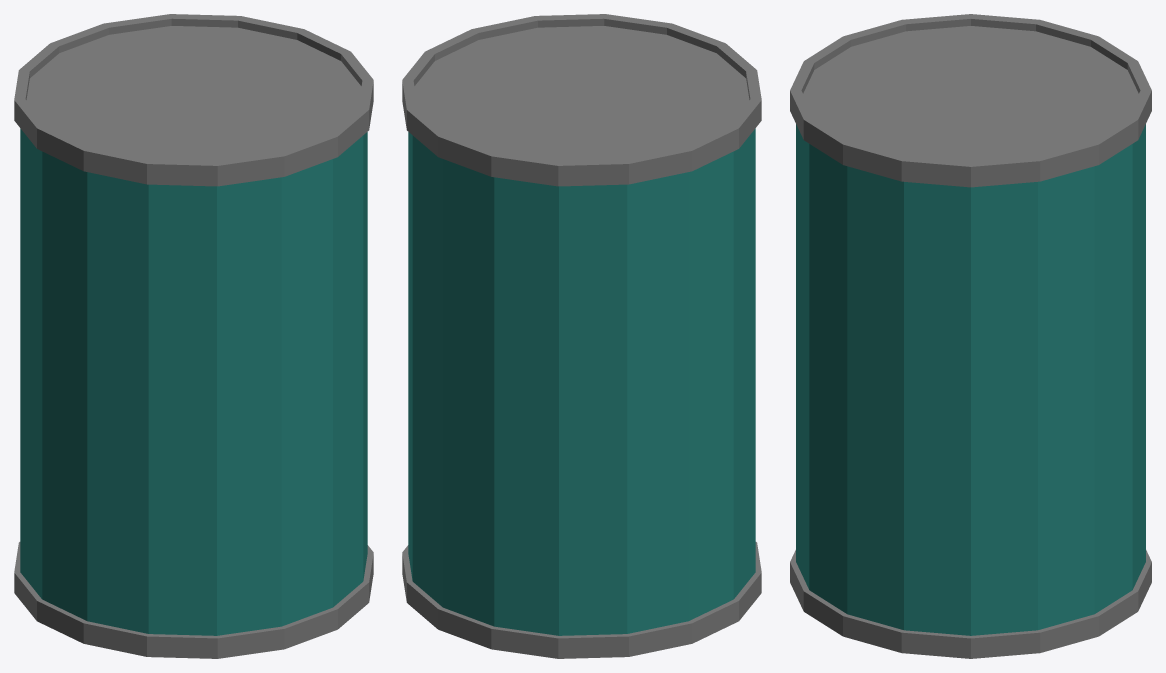
File: Can_01.fbx
3 views of the same model, side by side, from view 1: azimuth 30°, elevation 25°; view 2: azimuth 150°, elevation 25°; view 3: azimuth 270°, elevation 25° (orthographic).
Parts seen in each view (by area): view 1: Cylinder001; view 2: Cylinder001; view 3: Cylinder001.
Boxes of the visible parts, x1,y1,x2,y2 form: Cylinder001: [14, 14, 373, 658]; Cylinder001: [402, 14, 761, 658]; Cylinder001: [790, 14, 1151, 658].
Bounding box in the file's own units: 16 × 24 × 16.
